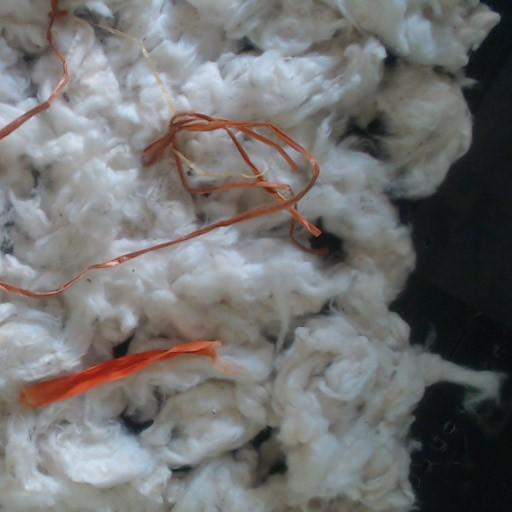cloth: (20, 341, 238, 407)
conveyor belt: (393, 0, 511, 511), (346, 119, 383, 155), (310, 231, 341, 262), (120, 412, 151, 433)
cotton: (0, 0, 504, 511)
thread: (0, 24, 319, 297), (0, 0, 67, 140)
